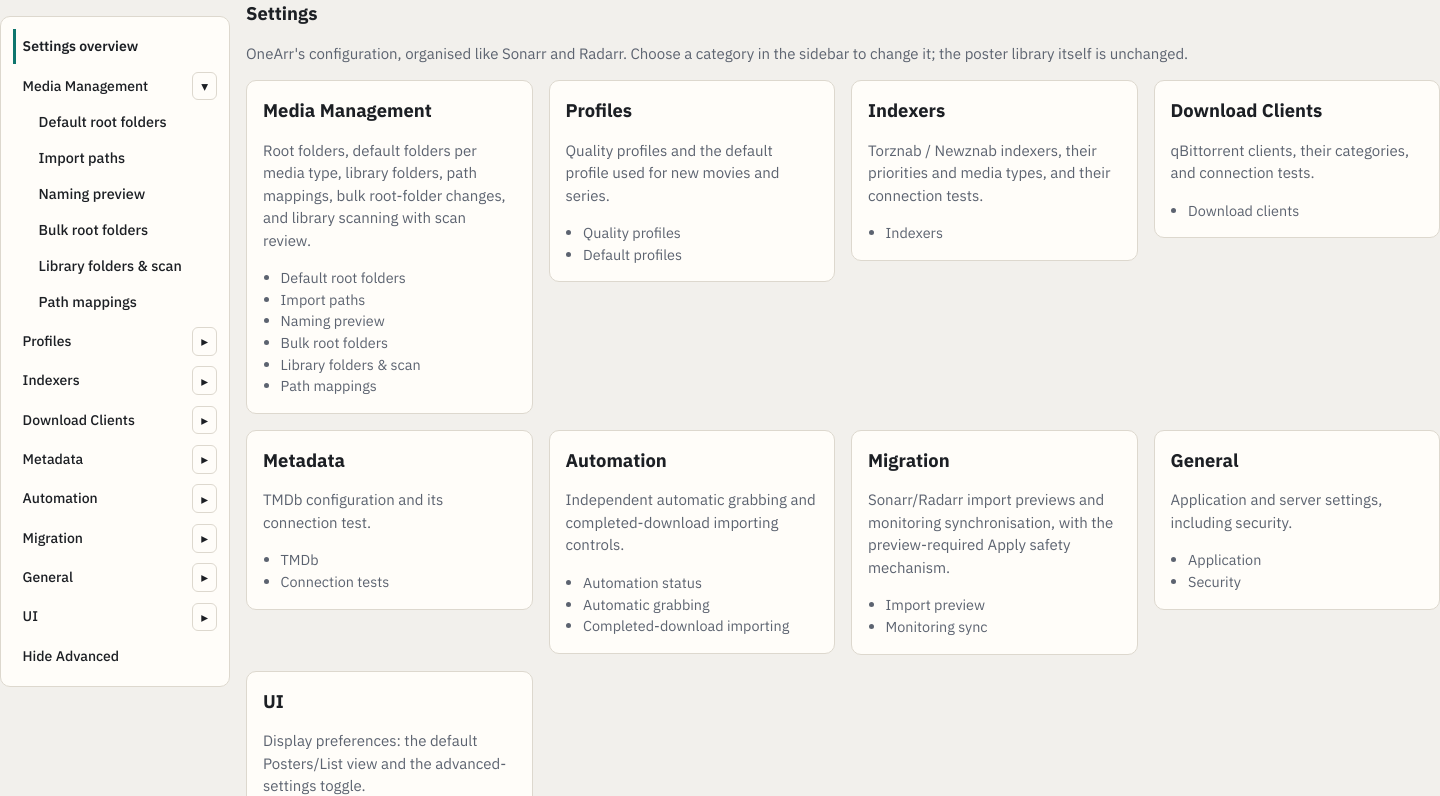
General settings › shows the server's validation message when a path is refused
Expected: the heading "Settings" is shown, [246, 1, 318, 25]
Step 1. Click the button "Media Management" → (101, 86), box [13, 68, 188, 104]
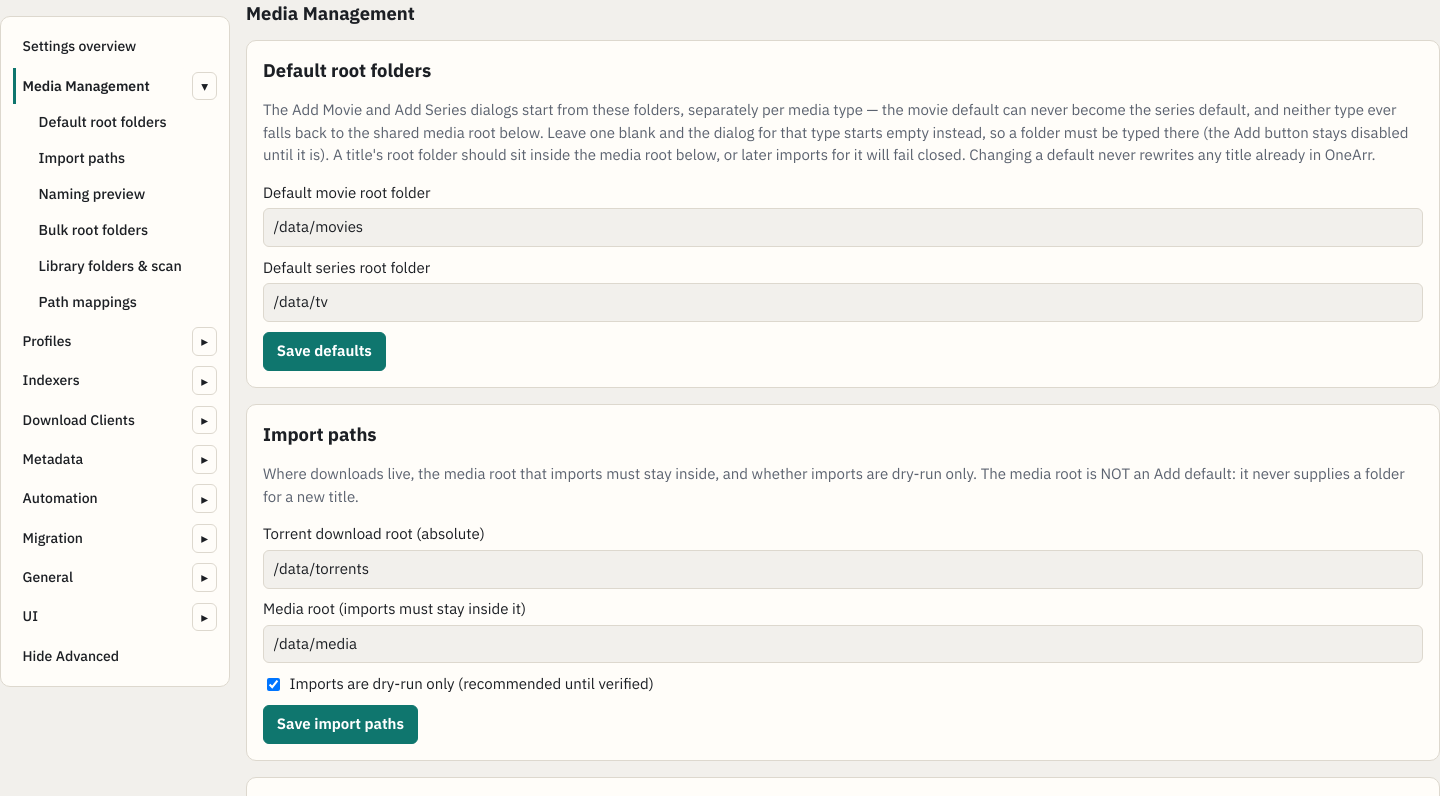
Expected: the heading "Default root folders" is shown, [263, 58, 431, 82]
Step 2. Replace the text in the field labelled "Media root (imports must stay inside it)" with "relative/media" → (843, 644), box [263, 625, 1423, 664]
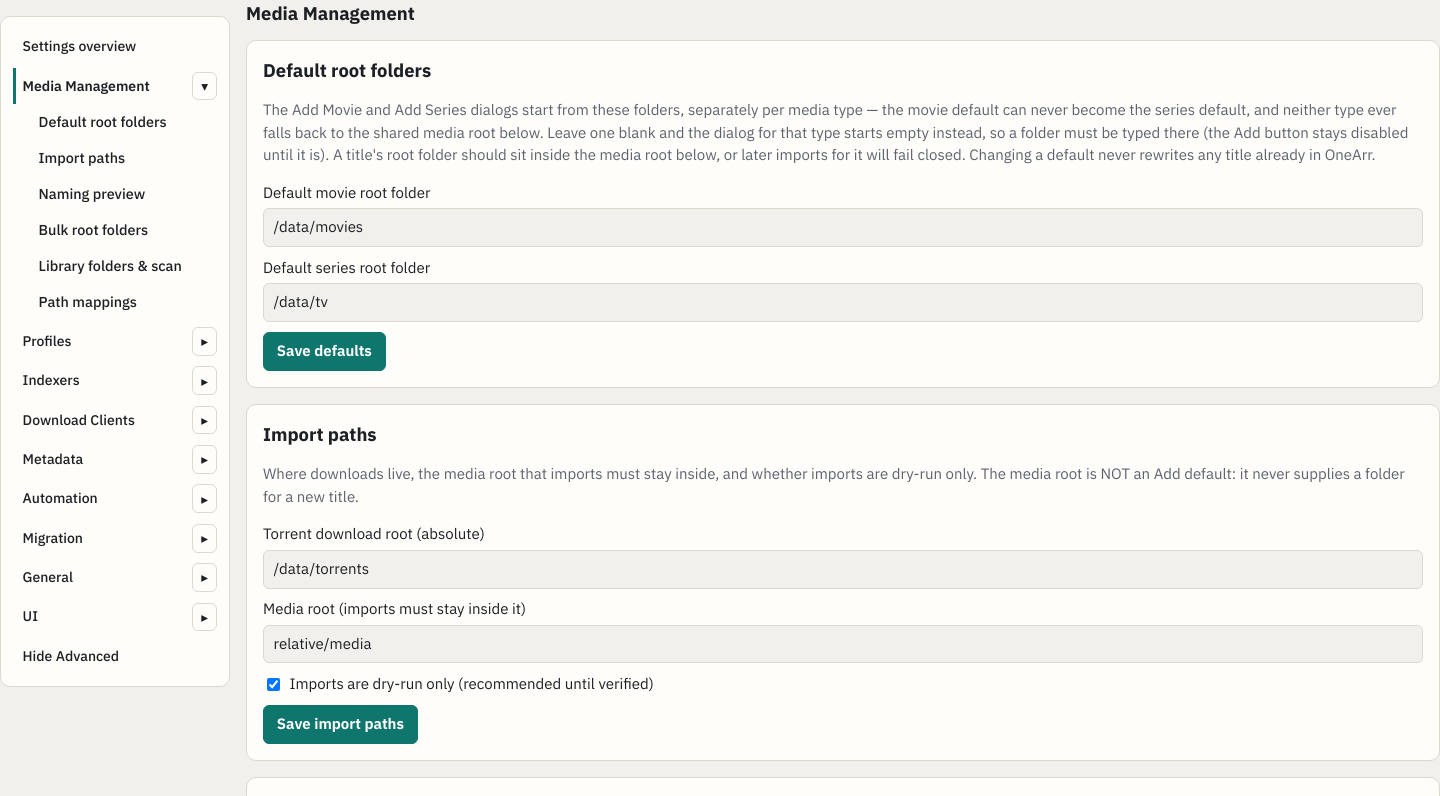
Step 3. Click the button "Save import paths" → (340, 725), box [263, 705, 418, 744]
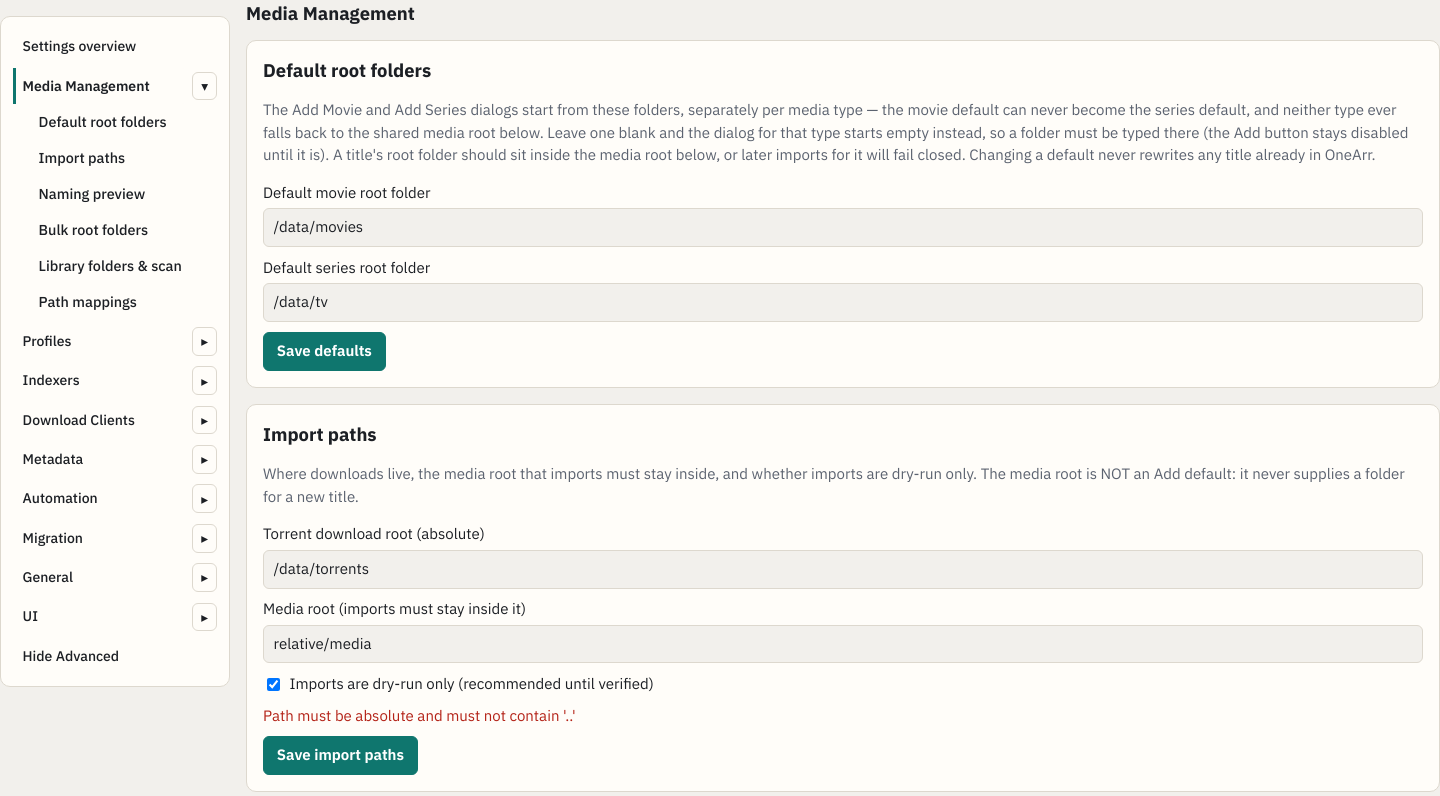
Expected: the text "Path must be absolute and must not contain '..'" is shown, [263, 706, 576, 725]
